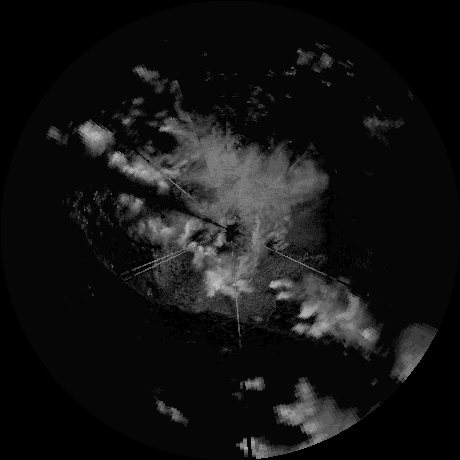frontgust: (77, 203, 161, 304)
